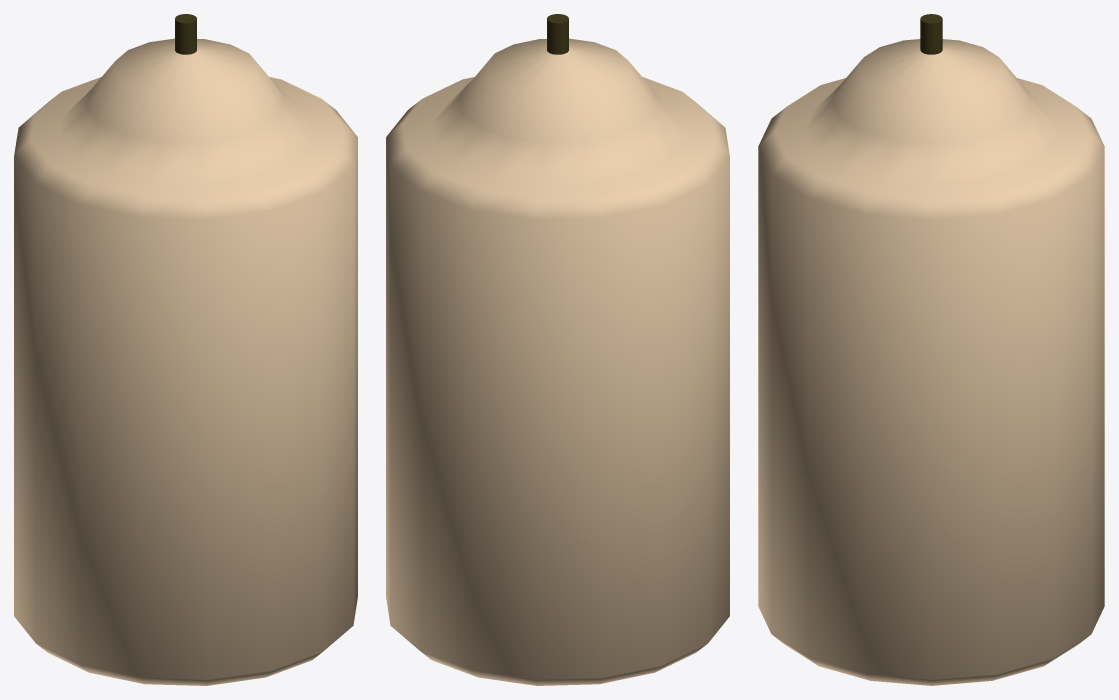
The model's file is candle.glb.
3 renders of one model, left to right at view 1: azimuth 30°, elevation 25°; view 2: azimuth 150°, elevation 25°; view 3: azimuth 270°, elevation 25°, orthographic.
Visible parts, largest first — view 1: candle; view 2: candle; view 3: candle.
Boxes of the visible parts, x1=… form: candle: x1=14, y1=14, x2=357, y2=685; candle: x1=386, y1=14, x2=729, y2=685; candle: x1=758, y1=14, x2=1104, y2=685.
Size of the model in its own units: 0.2 by 0.3821 by 0.2.
